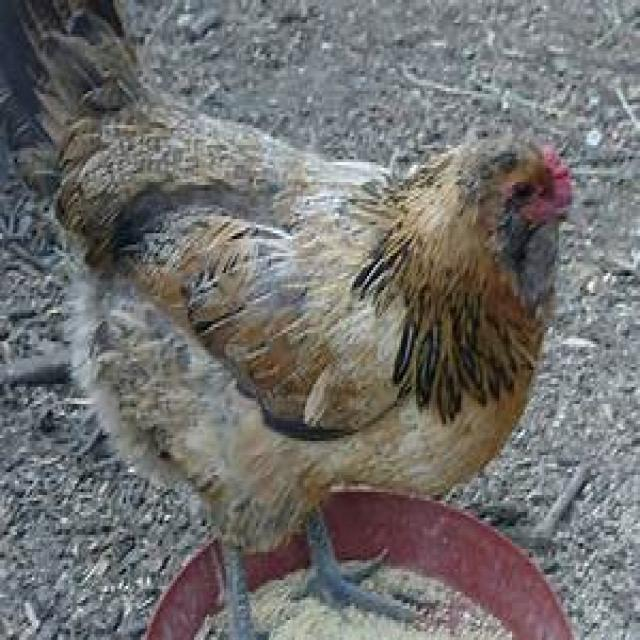hen: (36, 6, 576, 612)
